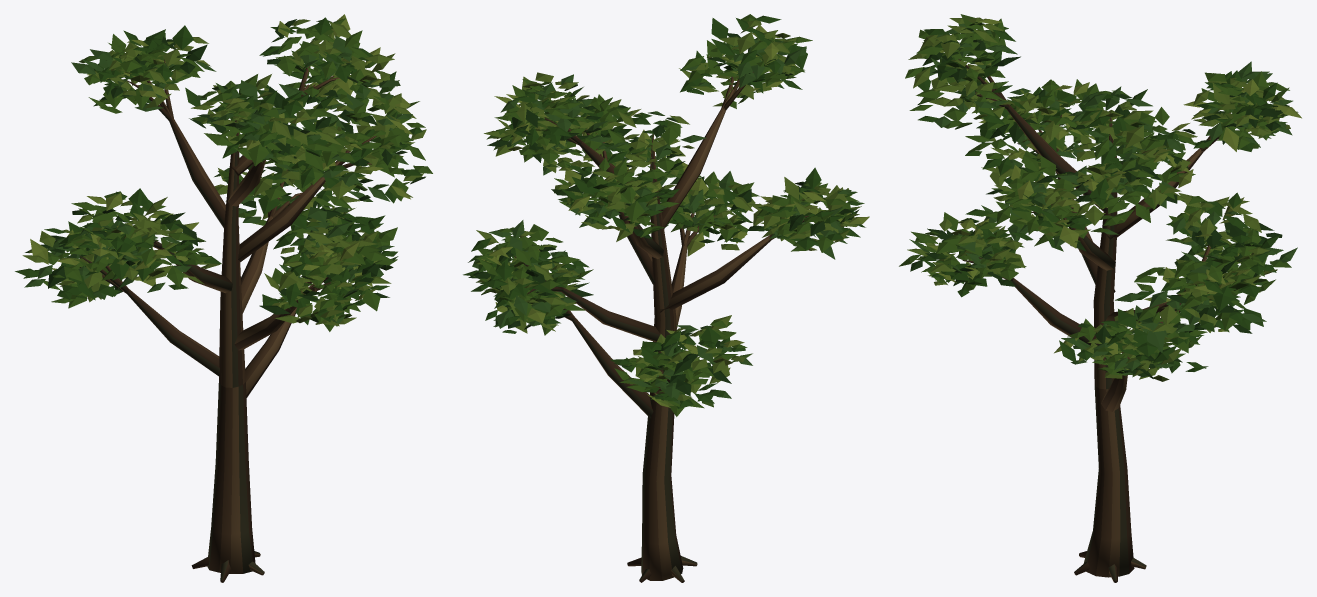
Rendered from Beech_Tall_01.fbx.
The picture shows the model from 3 angles, left to right: view 1: azimuth 30°, elevation 25°; view 2: azimuth 150°, elevation 25°; view 3: azimuth 270°, elevation 25°; orthographic projection. The views are drawn at different scales.
Parts seen in each view (by area): view 1: Beech_Tall_01_LOD0.001; view 2: Beech_Tall_01_LOD0.001; view 3: Beech_Tall_01_LOD0.001.
Boxes of the visible parts, bbox=[...] form: Beech_Tall_01_LOD0.001: bbox=[15, 14, 432, 582]; Beech_Tall_01_LOD0.001: bbox=[463, 14, 869, 582]; Beech_Tall_01_LOD0.001: bbox=[899, 14, 1301, 582].
Size of what is drawn, in the model's own units: 10.02 by 14.46 by 10.
